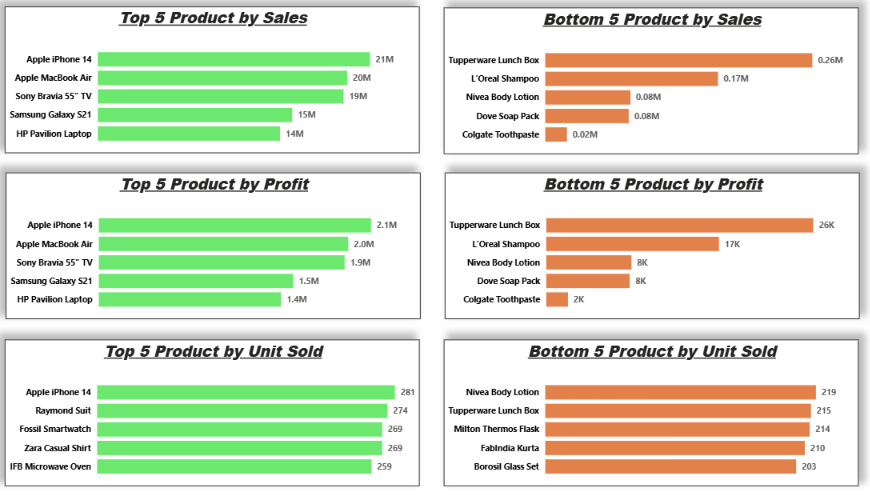

This screenshot's page, from the dashboard's own definition file:
{"tool":"powerbi","page":{"name":"Top/Bottom 5 ","canvas":[1280,720],"ordinal":1},"visuals":[{"type":"barChart","title":"Top 5 Product by Sales ","fields":{"Category":["Dim Product.Product Name"],"Y":["Sum(Fact Table.Net Sales)"]},"box":[23.3,19.2,591.4,208.6],"z":0},{"type":"barChart","title":"Top 5  Product by  Profit","fields":{"Category":["Dim Product.Product Name"],"Y":["Sum(Fact Table.Profit)"]},"box":[24.7,255.2,591.4,208.6],"z":1000},{"type":"barChart","title":"Top 5 Product by Unit Sold","fields":{"Category":["Dim Product.Product Name"],"Y":["Sum(Fact Table.Units Sold)"]},"box":[23.3,492.6,591.4,208.6],"z":2000},{"type":"barChart","title":"Bottom 5 Product by Sales ","fields":{"Category":["Dim Product.Product Name"],"Y":["Sum(Fact Table.Net Sales)"]},"box":[649.2,19.3,591.4,208.6],"z":3000},{"type":"barChart","title":"Bottom 5 Product by Profit","fields":{"Category":["Dim Product.Product Name"],"Y":["Sum(Fact Table.Profit)"]},"box":[650.6,255.4,591.4,208.6],"z":4000},{"type":"barChart","title":"Bottom 5  Product by Unit Sold","fields":{"Category":["Dim Product.Product Name"],"Y":["Sum(Fact Table.Units Sold)"]},"box":[649.2,492.7,591.4,208.6],"z":5000}]}

Visuals, with their boxes in screenshot pixels (x1, y1, x2, y2), scaled from the page's 1280x720 canvas onto the 870x495 screenshot:
"Top 5 Product by Sales " barChart: [x1=16, y1=13, x2=418, y2=157]
"Top 5  Product by  Profit" barChart: [x1=17, y1=175, x2=419, y2=319]
"Top 5 Product by Unit Sold" barChart: [x1=16, y1=339, x2=418, y2=482]
"Bottom 5 Product by Sales " barChart: [x1=441, y1=13, x2=843, y2=157]
"Bottom 5 Product by Profit" barChart: [x1=442, y1=176, x2=844, y2=319]
"Bottom 5  Product by Unit Sold" barChart: [x1=441, y1=339, x2=843, y2=482]
